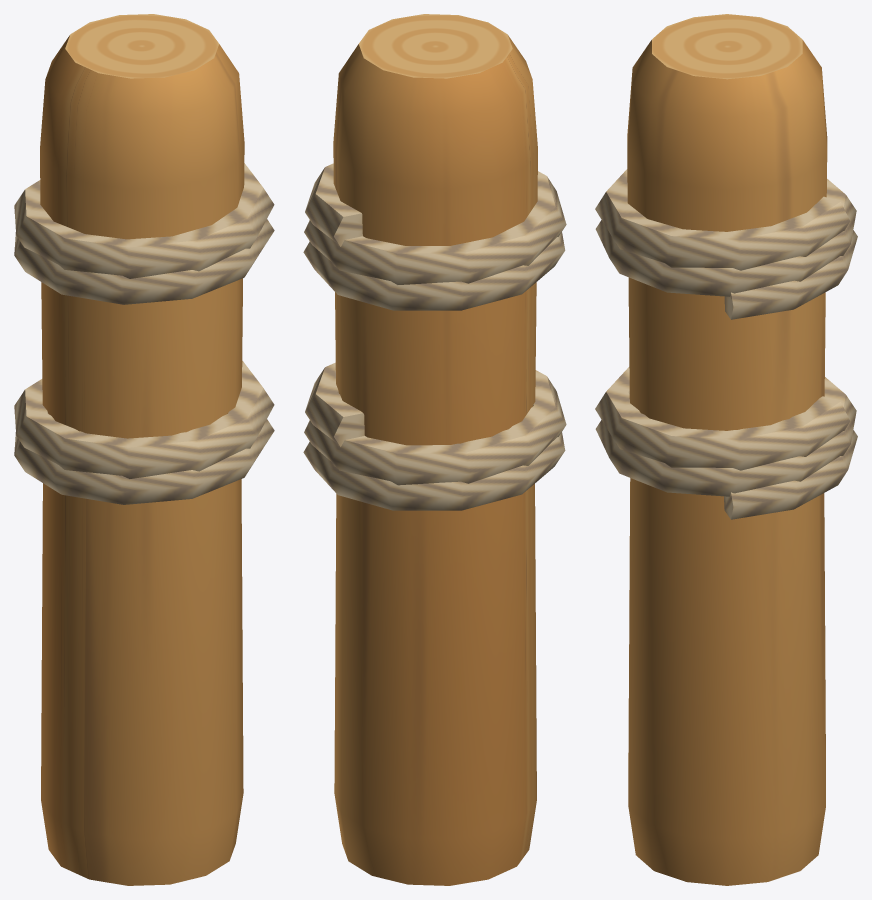
The model's file is fence_post.glb.
The picture shows the model from 3 angles, left to right: view 1: azimuth 30°, elevation 25°; view 2: azimuth 150°, elevation 25°; view 3: azimuth 270°, elevation 25°; orthographic projection.
Parts seen in each view (by area): view 1: fence_post; view 2: fence_post; view 3: fence_post.
Part boxes in pixels (x1,y1,x2,y2): fence_post: (14,14,274,885); fence_post: (303,14,566,885); fence_post: (595,14,857,885).
Size of the model in its own units: 0.2372 by 0.8 by 0.2384.
Materials: 3 (3 with a texture image).
